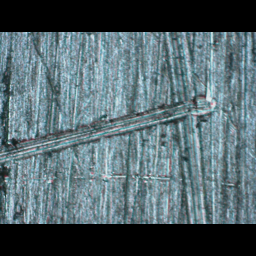d: (0, 89, 221, 179)
